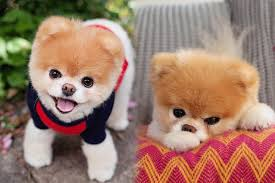dog: (24, 9, 129, 125)
